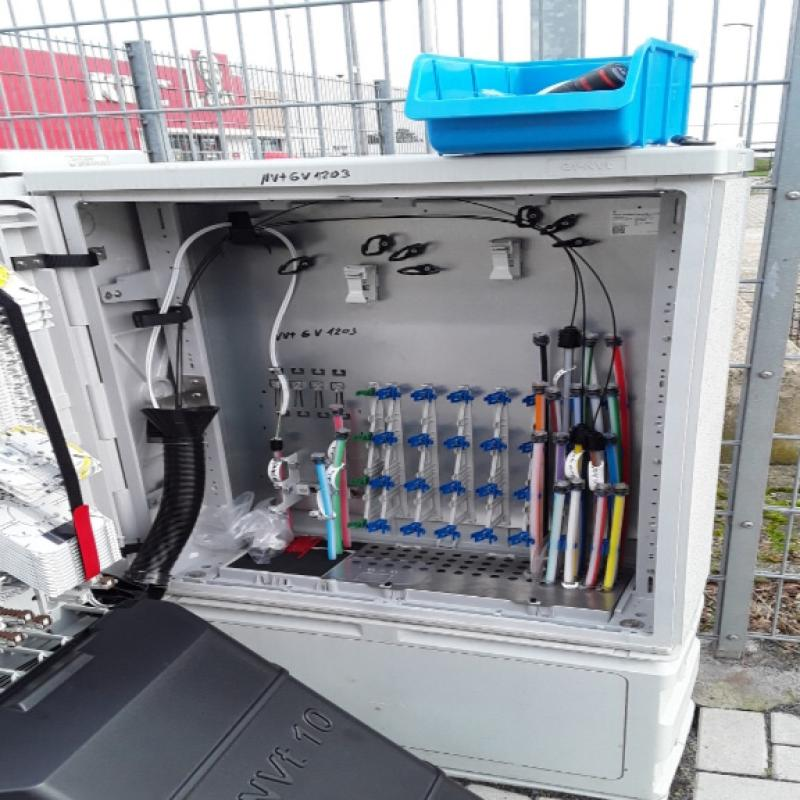NT-Gehause: (0, 147, 726, 799)
Spleiskassetten: (0, 242, 134, 613)
